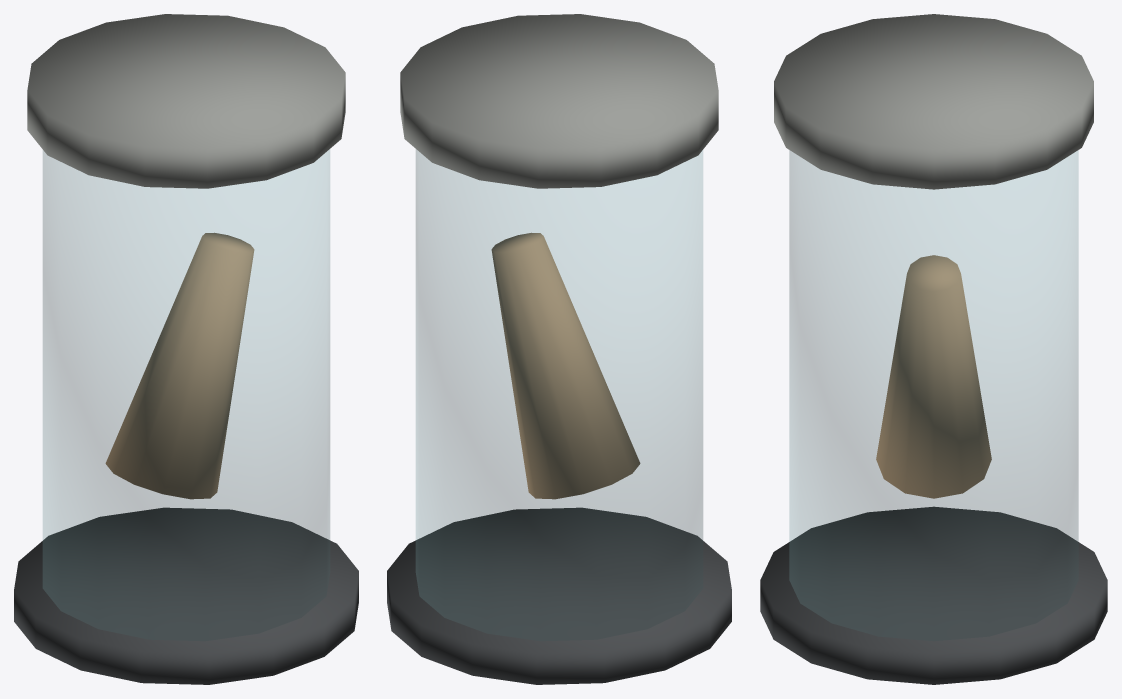
Rendered from specimen_jar.glb.
The picture shows the model from 3 angles, left to right: view 1: azimuth 30°, elevation 25°; view 2: azimuth 150°, elevation 25°; view 3: azimuth 270°, elevation 25°; orthographic projection.
Parts seen in each view (by area): view 1: specimen_jar; view 2: specimen_jar; view 3: specimen_jar.
Part boxes in pixels (x1=…): specimen_jar: x1=14, y1=14, x2=358, y2=684; specimen_jar: x1=387, y1=14, x2=731, y2=684; specimen_jar: x1=760, y1=14, x2=1107, y2=684.
Size of the model in its own units: 0.18 by 0.303 by 0.18.
